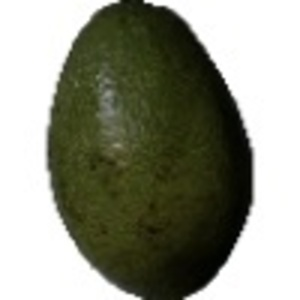abacate: (35, 2, 255, 298)
